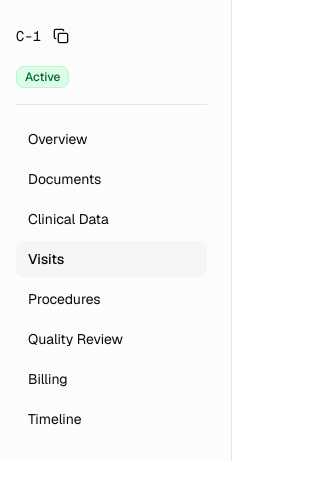
Test: announces confirmed clipboard success and retains a named copy control
The width and height of the screenshot is (320, 478).
Click the button named "Copy case number": (61, 36) x1=49 y1=24 x2=73 y2=48
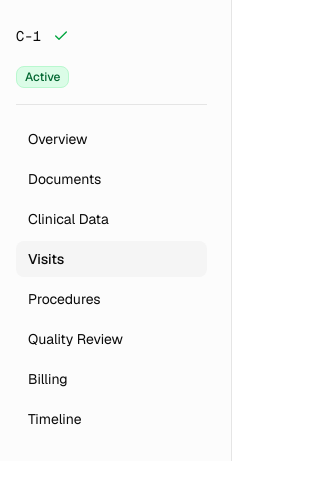
Expected: the button named "Copied case number" is shown, x1=49 y1=24 x2=73 y2=48
